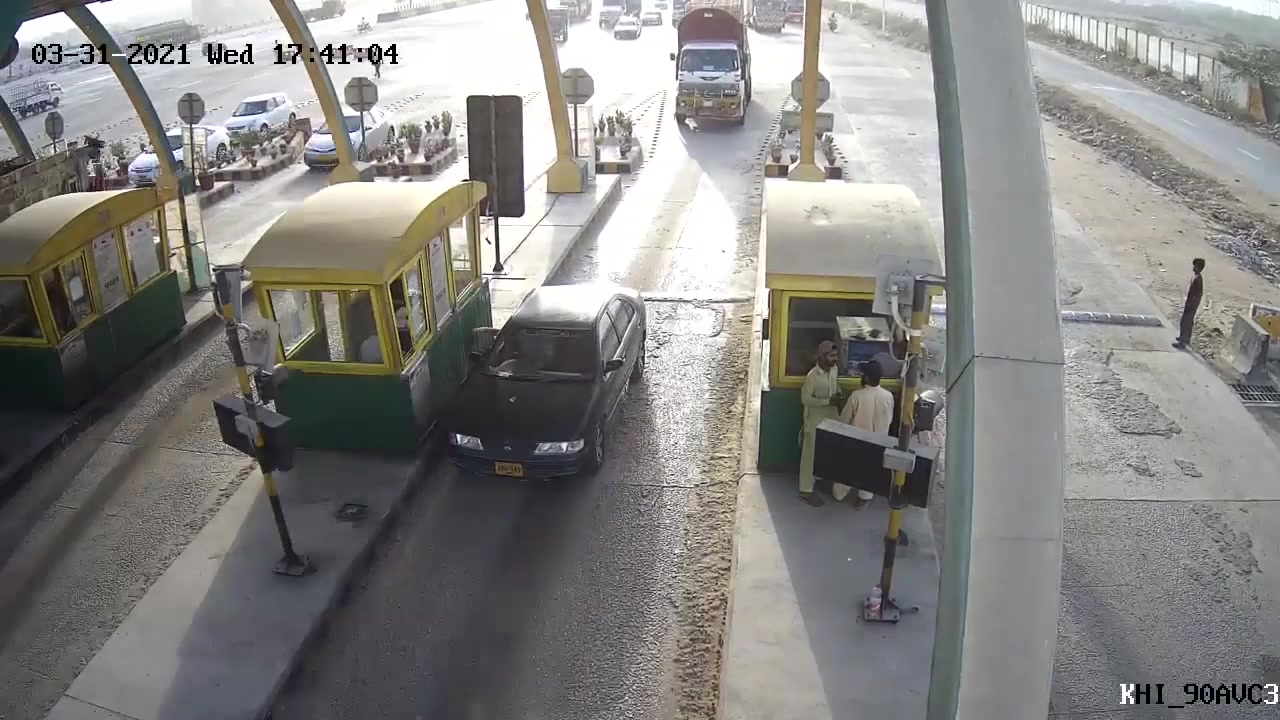F1: (446, 274, 652, 500)
